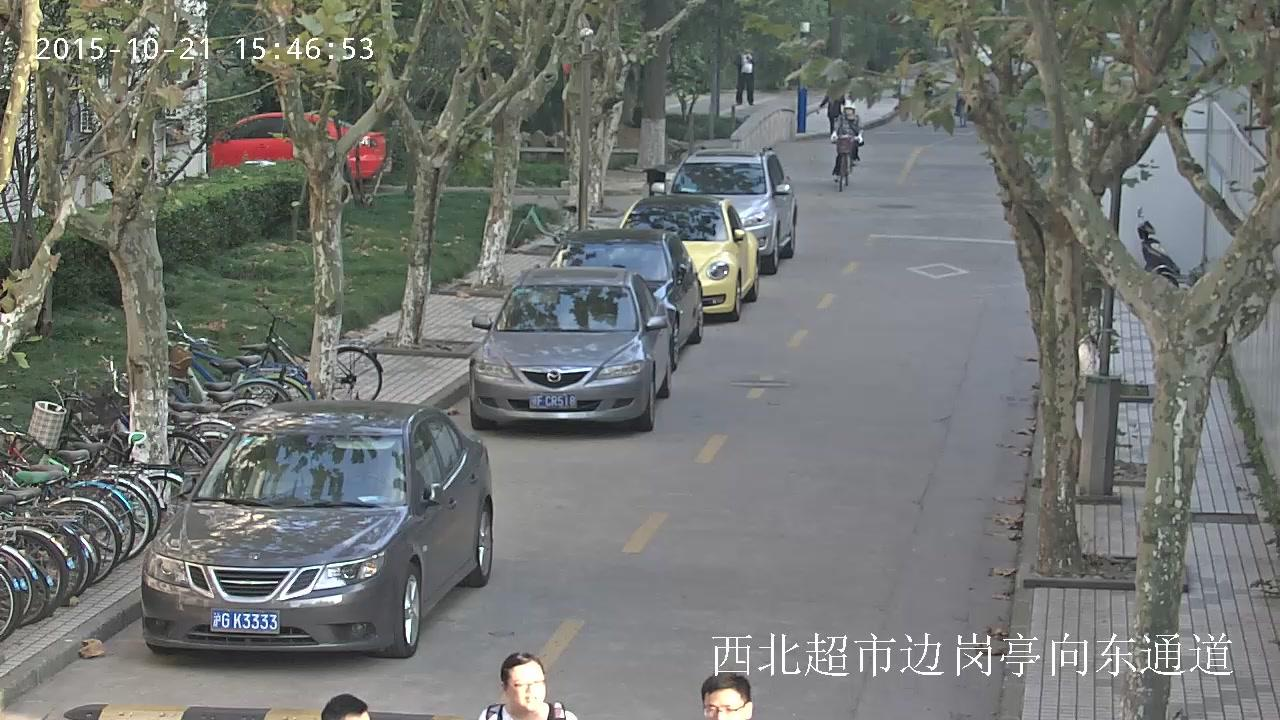face: (506, 661, 545, 712), (703, 687, 745, 720), (340, 712, 371, 720), (845, 108, 852, 115)
